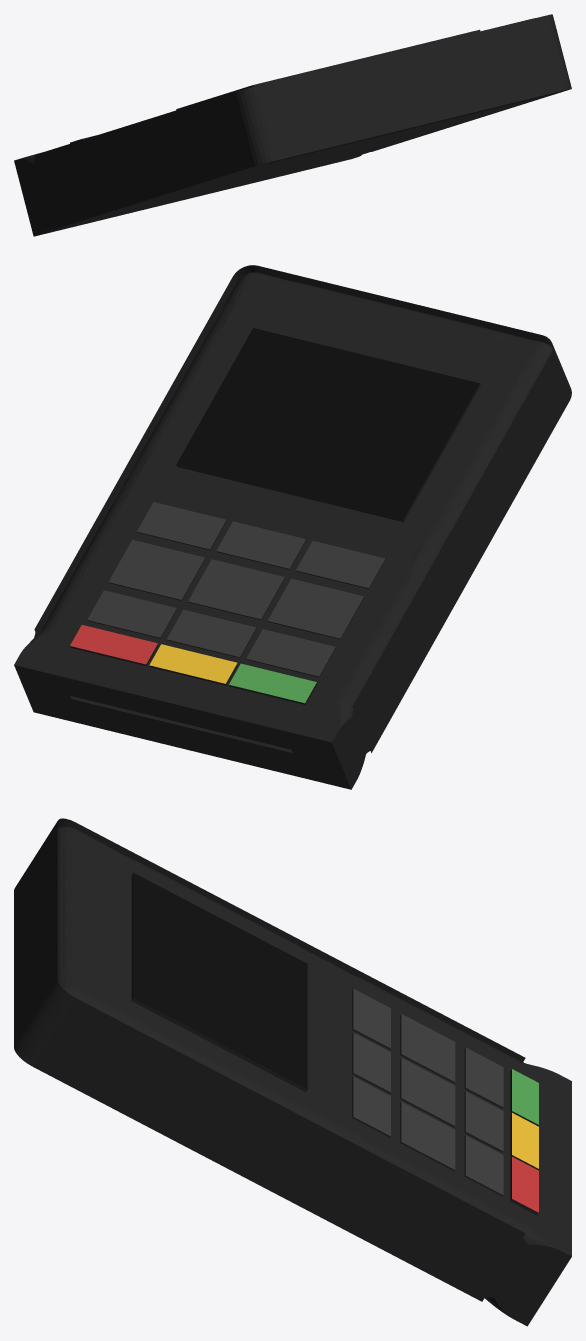
Rendered from Register_CardMachine.fbx.
3 views of the same model, one above another, from view 1: azimuth 30°, elevation 25°; view 2: azimuth 150°, elevation 25°; view 3: azimuth 270°, elevation 25° (orthographic). The views are drawn at different scales.
Parts seen in each view (by area): view 1: Register_Card_Machine; view 2: Register_Card_Machine; view 3: Register_Card_Machine.
Boxes of the visible parts, x1,y1,x2,y2 form: Register_Card_Machine: (14, 14, 571, 236); Register_Card_Machine: (14, 265, 571, 789); Register_Card_Machine: (14, 818, 571, 1326).
Bounding box in the file's own units: 14 × 12.57 × 18.81.
